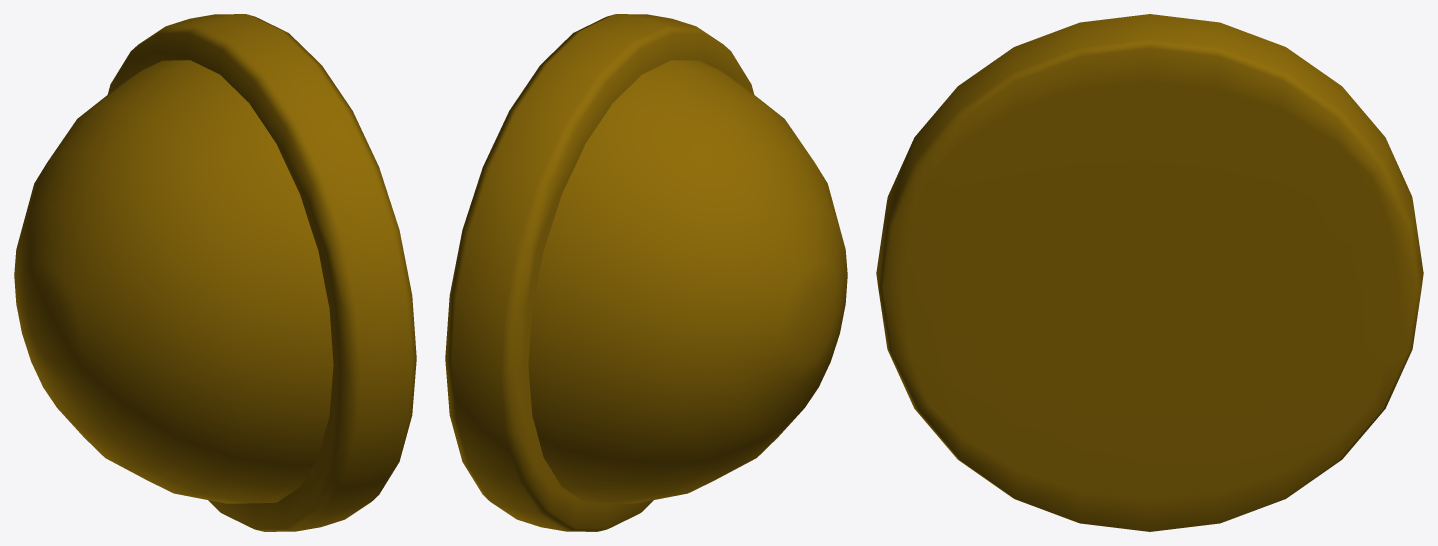
The model's file is Lamp_Led_01.fbx.
The picture shows the model from 3 angles, left to right: view 1: azimuth 30°, elevation 25°; view 2: azimuth 150°, elevation 25°; view 3: azimuth 270°, elevation 25°; orthographic projection. The views are drawn at different scales.
Parts seen in each view (by area): view 1: Lamp_Led_01; view 2: Lamp_Led_01; view 3: Lamp_Led_01.
Part boxes in pixels (left/top/right/bottom): Lamp_Led_01: left=14, top=14, right=416, bottom=531; Lamp_Led_01: left=445, top=14, right=847, bottom=531; Lamp_Led_01: left=876, top=14, right=1423, bottom=531.
Bounding box in the file's own units: 11.51 × 21.23 × 21.22.
